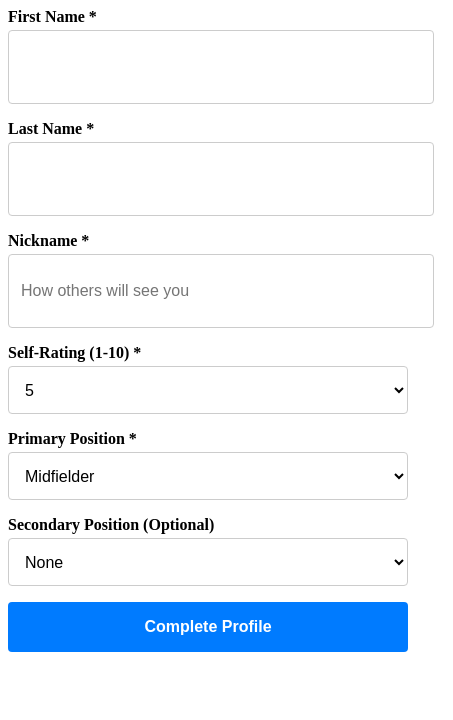
Test: ProfileForm › validates field lengths
The width and height of the screenshot is (453, 720).
Type "A" into the field labelled "First Name *" at (221, 67), box [8, 30, 434, 104]
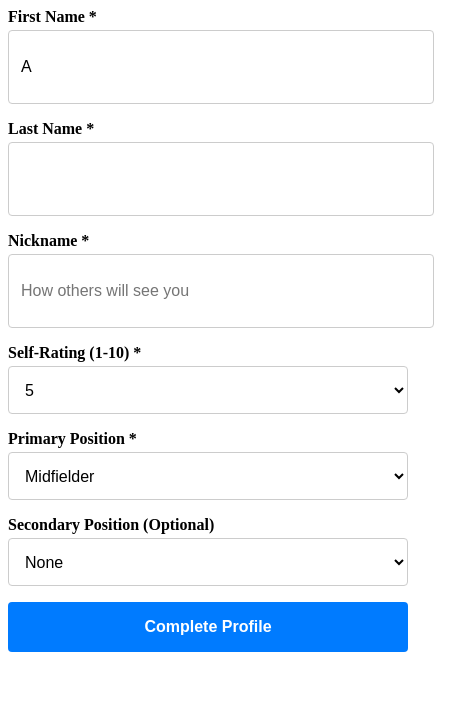
Type "B" into the field labelled "Last Name *" at (221, 179), box [8, 142, 434, 216]
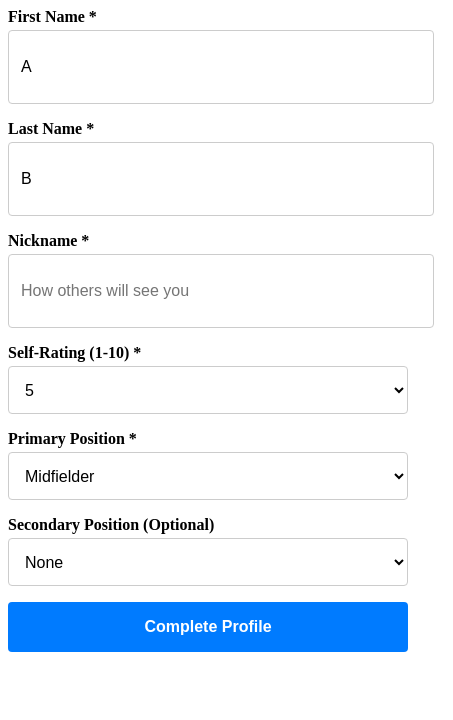
Type "C" into the field labelled "Nickname *" at (221, 291), box [8, 254, 434, 328]
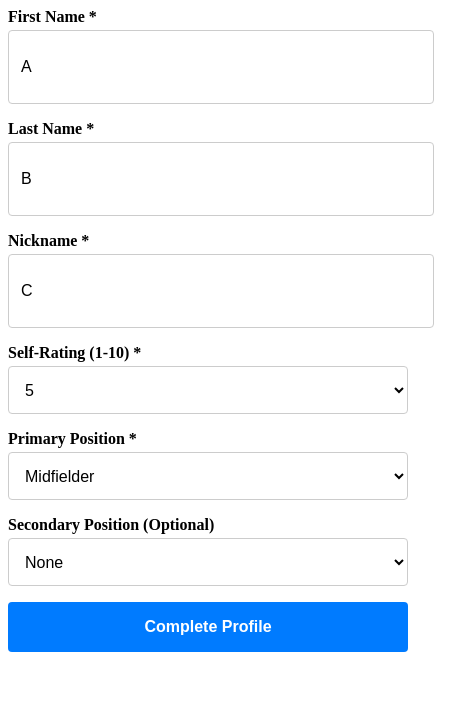
Click the button "Complete Profile" at (208, 627), box [8, 602, 408, 652]
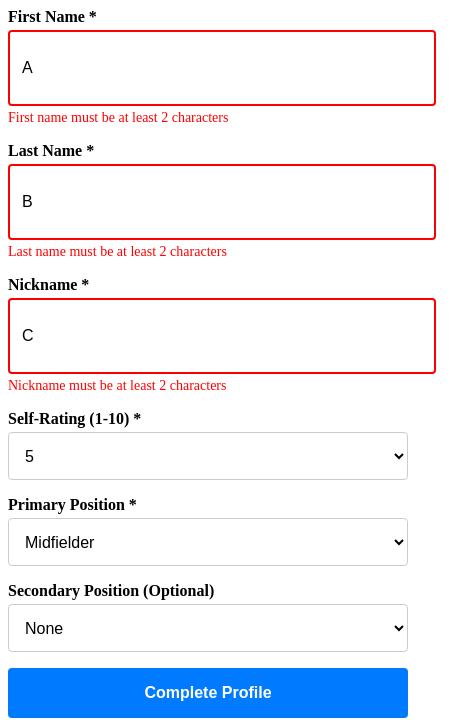
Result: the text "First name must be at least 2 characters" is shown at [8, 110, 228, 125]
Result: the text "Last name must be at least 2 characters" is shown at [8, 244, 227, 259]
Result: the text "Nickname must be at least 2 characters" is shown at [8, 378, 226, 393]
